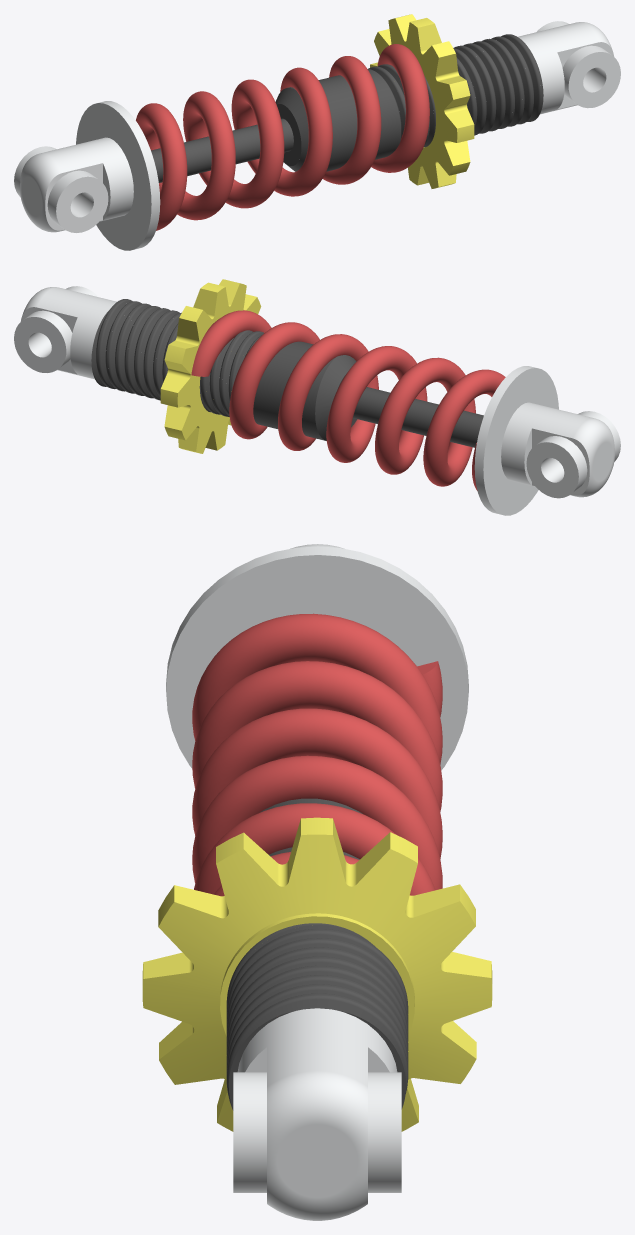
Rendered from shocker.glb.
3 views of the same model, one above another, from view 1: azimuth 30°, elevation 25°; view 2: azimuth 150°, elevation 25°; view 3: azimuth 270°, elevation 25° (orthographic). The views are drawn at different scales.
Parts seen in each view (by area): view 1: spring-1, top-rod-1, shock-absorber-1, nut-1; view 2: spring-1, top-rod-1, shock-absorber-1, nut-1; view 3: spring-1, top-rod-1, nut-1, shock-absorber-1.
Part boxes in pixels (box(x1,y1,x2,y2)): spring-1: box(136, 44, 429, 230); top-rod-1: box(275, 21, 620, 171); shock-absorber-1: box(14, 101, 293, 250); nut-1: box(370, 14, 474, 188); spring-1: box(191, 310, 505, 490); top-rod-1: box(14, 286, 356, 440); shock-absorber-1: box(353, 366, 620, 515); nut-1: box(160, 279, 261, 453); spring-1: box(192, 613, 442, 896); top-rod-1: box(226, 798, 408, 1220); nut-1: box(142, 817, 492, 1131); shock-absorber-1: box(166, 544, 468, 769).
Size of the model in its own units: 0.1959 by 0.052 by 0.052.
